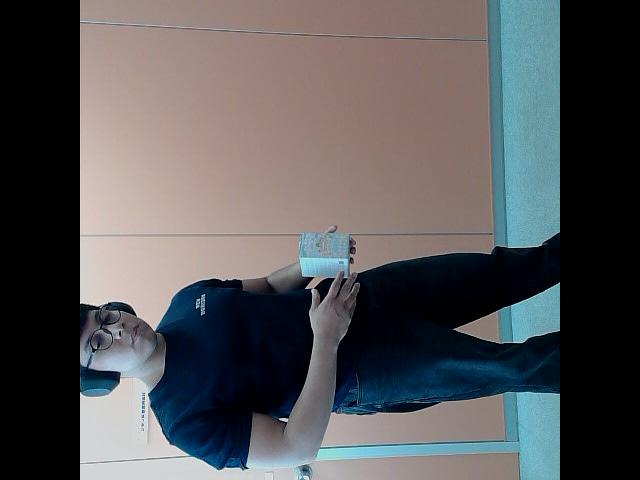Blind_box: (296, 228, 356, 278)
